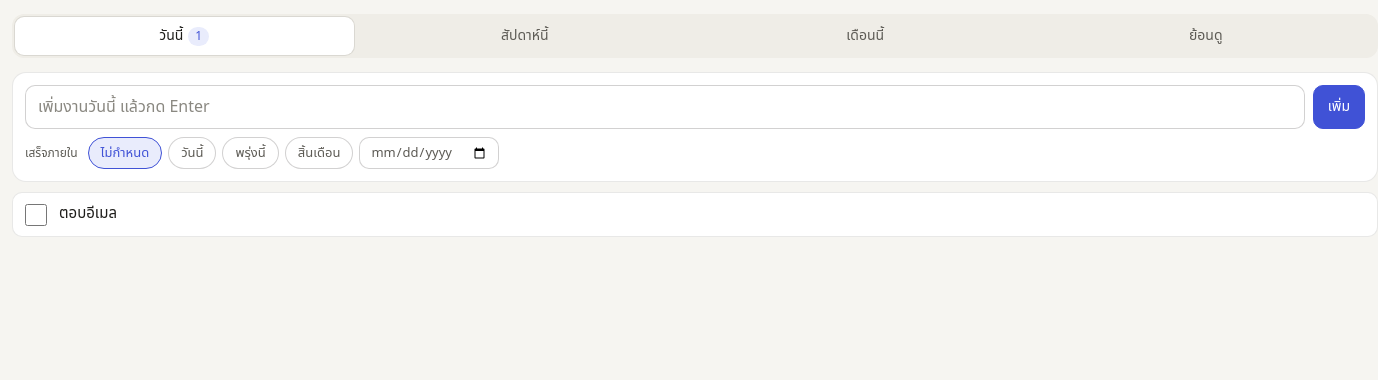
SimpleView › fades a ticked task into "ทำแล้ว" and can untick it
Click the checkbox named "เสร็จแล้ว: ตอบอีเมล".
click(36, 215)  # box [25,204,47,226]
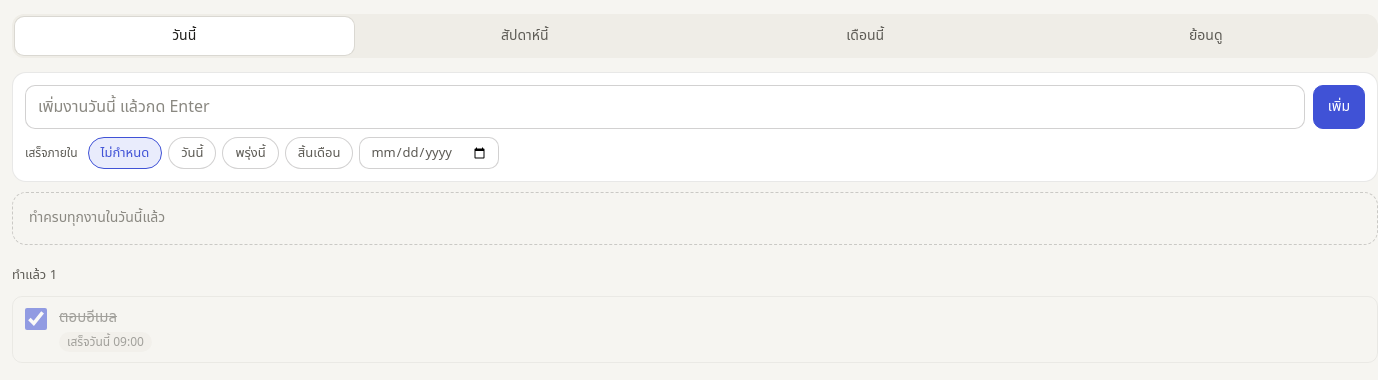
Check: the heading "ทำแล้ว 1" is shown, box [12,265,57,285]
Check: the list item named "ยังไม่เสร็จ: ตอบอีเมล" shows "เสร็จวันนี้", box [59,307,1365,352]
Check: the text "ทำครบทุกงานในวันนี้แล้ว" is shown, box [12,192,1377,245]
Click the checkbox named "ยังไม่เสร็จ: ตอบอีเมล".
click(36, 319)  # box [25,308,47,330]
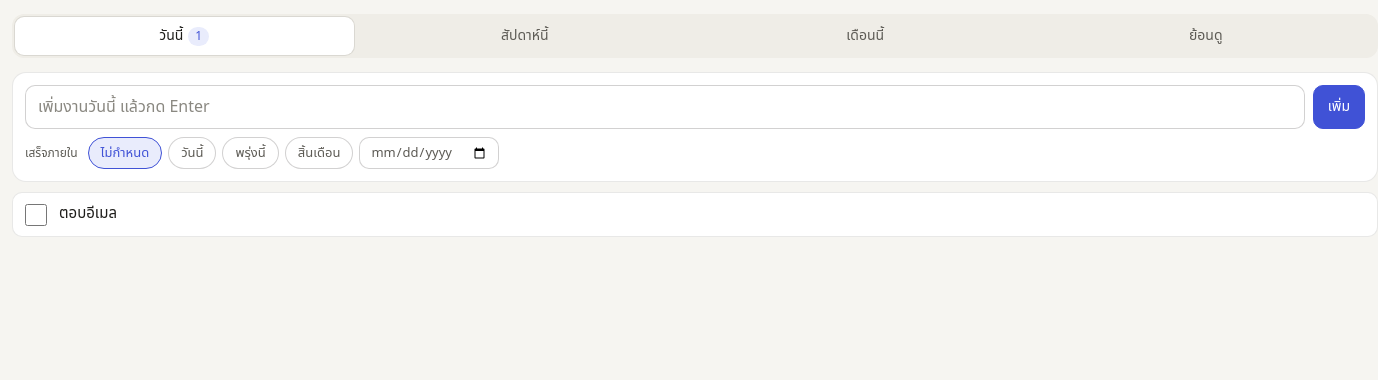
Check: the heading "ทำแล้ว" is gone
